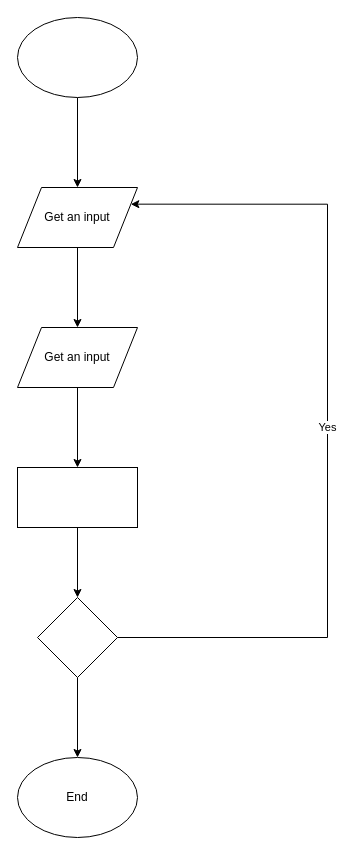
The diagram is 354 pixels wide and 855 high, and some of its shapes have lost their labels. Each missing label, with the centre of its shape:
"add numbers together Display result" goes at pixel 77 497.
"repeat?" goes at pixel 77 637.
